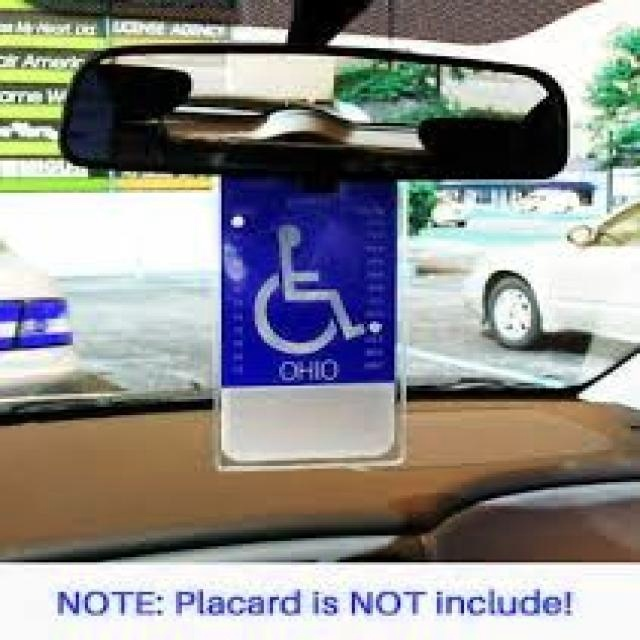ISA: (255, 226, 367, 355)
